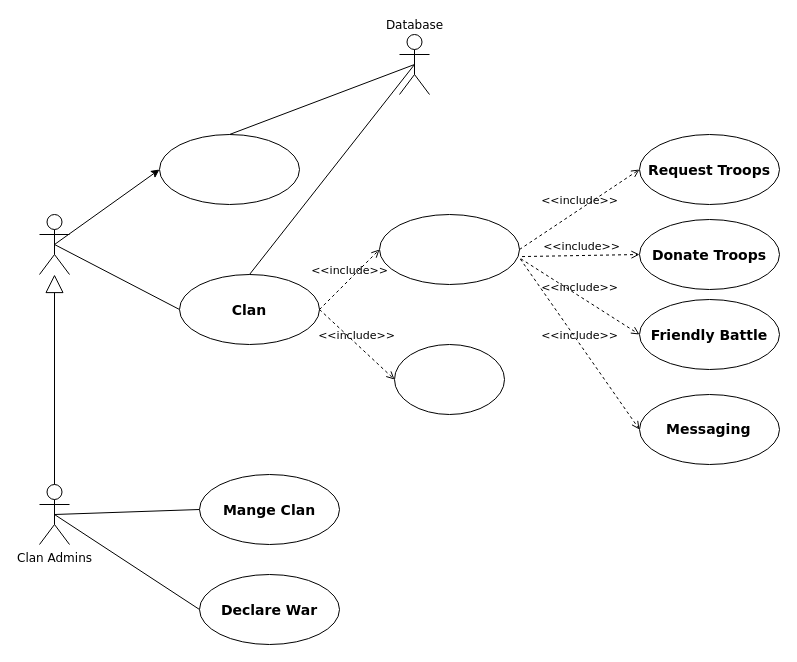
The diagram is 797 pixels wide and 662 high, and some of its shapes have lost their labels. The box of each missing label's shape, as (x1, y1, x2, y2) in pixels:
Chat Room: (378, 214, 520, 284)
Player: (38, 214, 70, 274)
Shop: (158, 134, 300, 204)
War: (394, 344, 504, 414)
